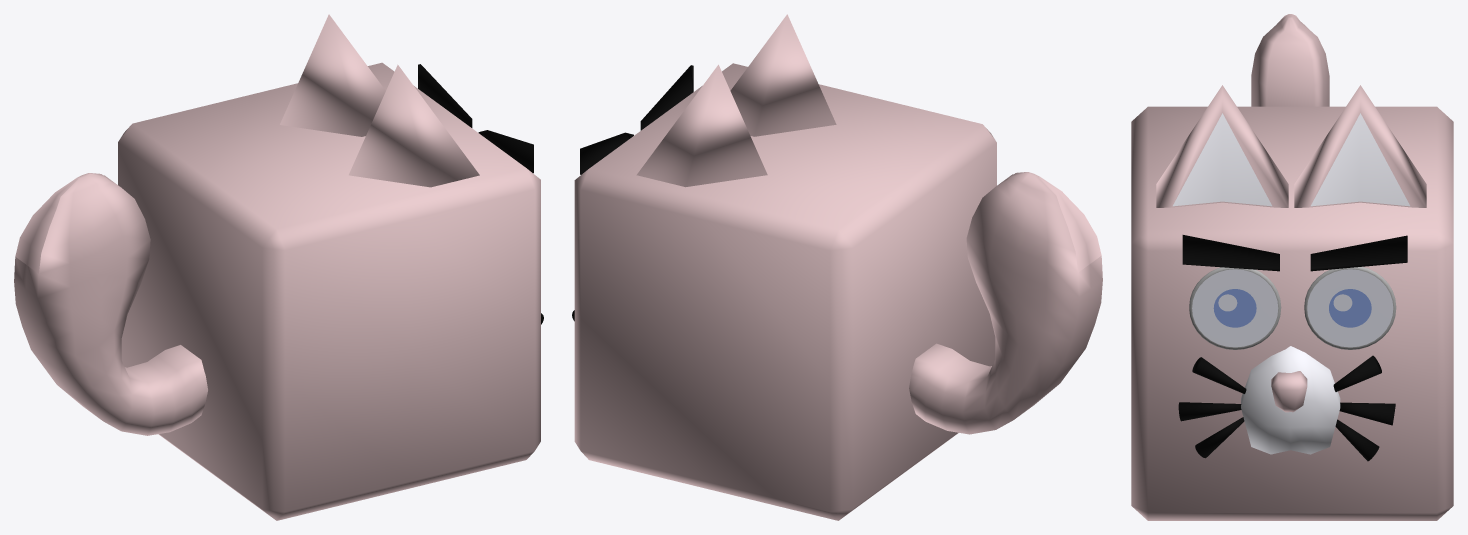
File: otherCat.fbx
3 renders of one model, left to right at view 1: azimuth 30°, elevation 25°; view 2: azimuth 150°, elevation 25°; view 3: azimuth 270°, elevation 25°, orthographic.
Visible parts, largest first — view 1: Circle, Cube; view 2: Circle, Cube; view 3: Circle, Cube.
Boxes of the visible parts, x1,y1,x2,y2 form: Circle: (118, 14, 543, 520); Cube: (14, 64, 533, 435); Circle: (572, 14, 996, 520); Cube: (580, 65, 1102, 434); Circle: (1131, 85, 1453, 520); Cube: (1182, 14, 1407, 271).
Bounding box in the file's own units: 350 × 268 × 200.
